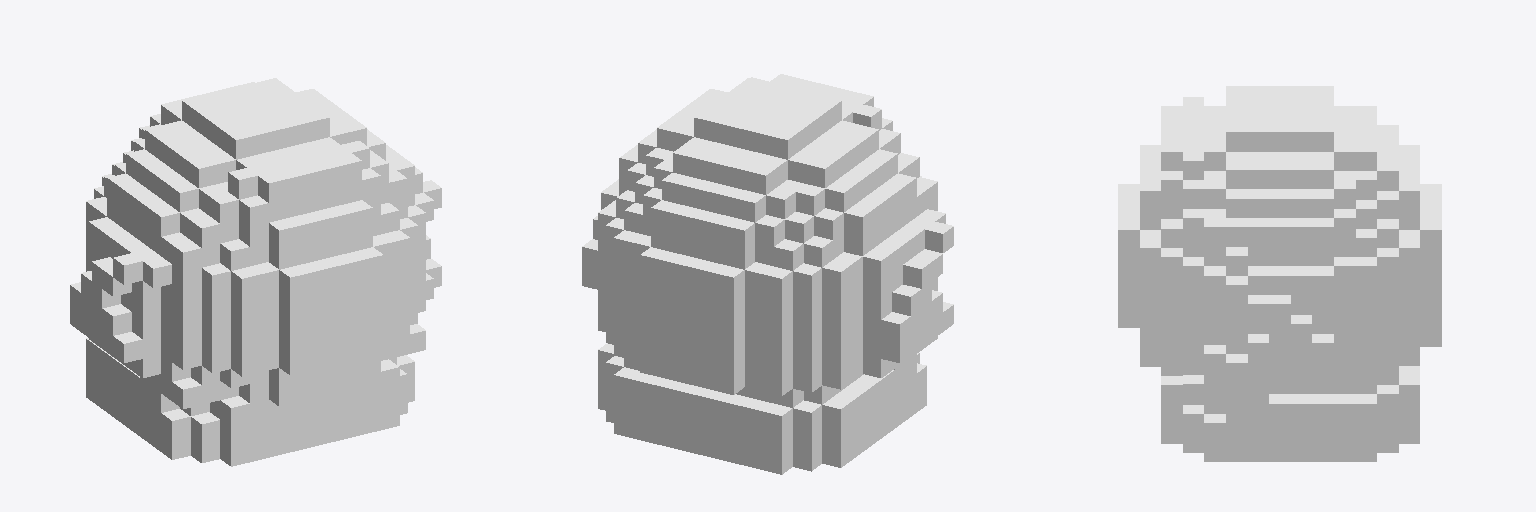
File: MainThings_Vox-1.obj
The picture shows the model from 3 angles: view 1: azimuth 30°, elevation 25°; view 2: azimuth 150°, elevation 25°; view 3: azimuth 270°, elevation 25°; orthographic projection.
Parts seen in each view (by area): view 1: object 1; view 2: object 1; view 3: object 1.
Boxes of the visible parts, x1=… form: object 1: x1=70, y1=78, x2=441, y2=466; object 1: x1=582, y1=74, x2=953, y2=474; object 1: x1=1118, y1=86, x2=1441, y2=461.
Size of the model in its own units: 1.7 by 1.5 by 1.5.